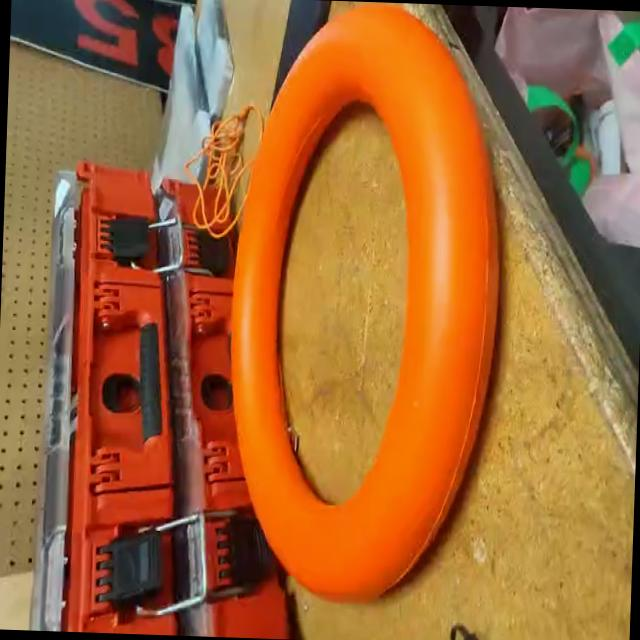note: (216, 0, 520, 613)
